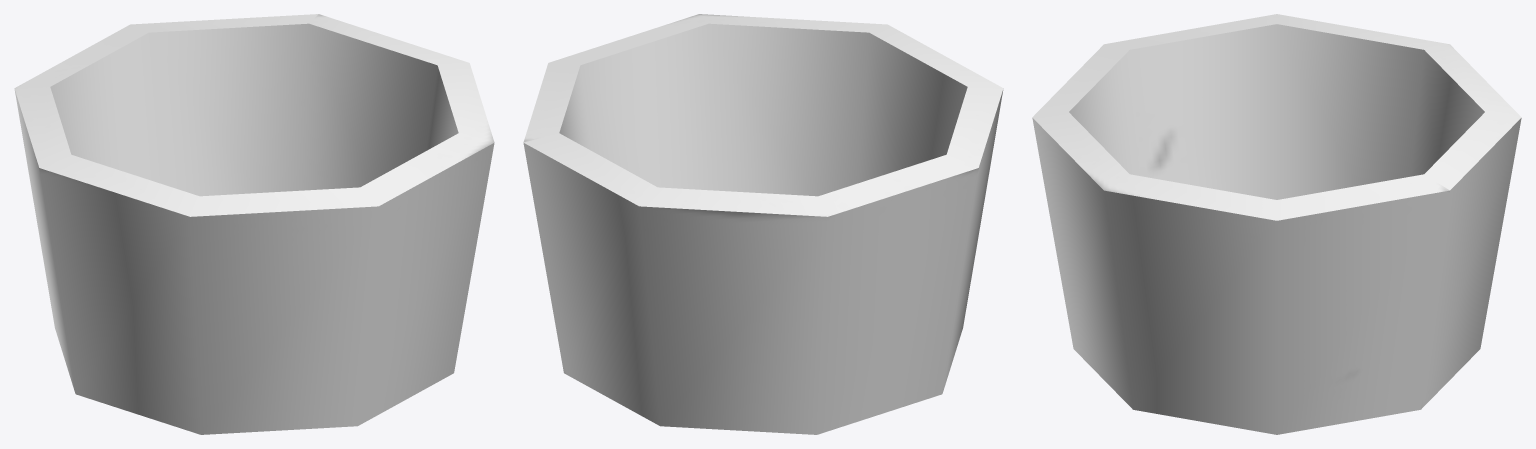
Rendered from bowl.fbx.
3 views of the same model, side by side, from view 1: azimuth 30°, elevation 25°; view 2: azimuth 150°, elevation 25°; view 3: azimuth 270°, elevation 25° (orthographic).
Visible parts, largest first — view 1: bowl; view 2: bowl; view 3: bowl.
Boxes of the visible parts, x1,y1,x2,y2 form: bowl: (14, 14, 494, 434); bowl: (523, 14, 1003, 434); bowl: (1032, 14, 1521, 434).
Size of the model in its own units: 0.8298 by 0.4432 by 0.8298.
